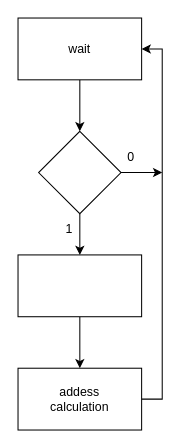
This 188x448 diagram has some shape labels left out. Here are the shapes that lost their labels. From the top down, the centre of each, then its label:
At point (79, 172): "compute".
At point (79, 285): "operand calculation".
